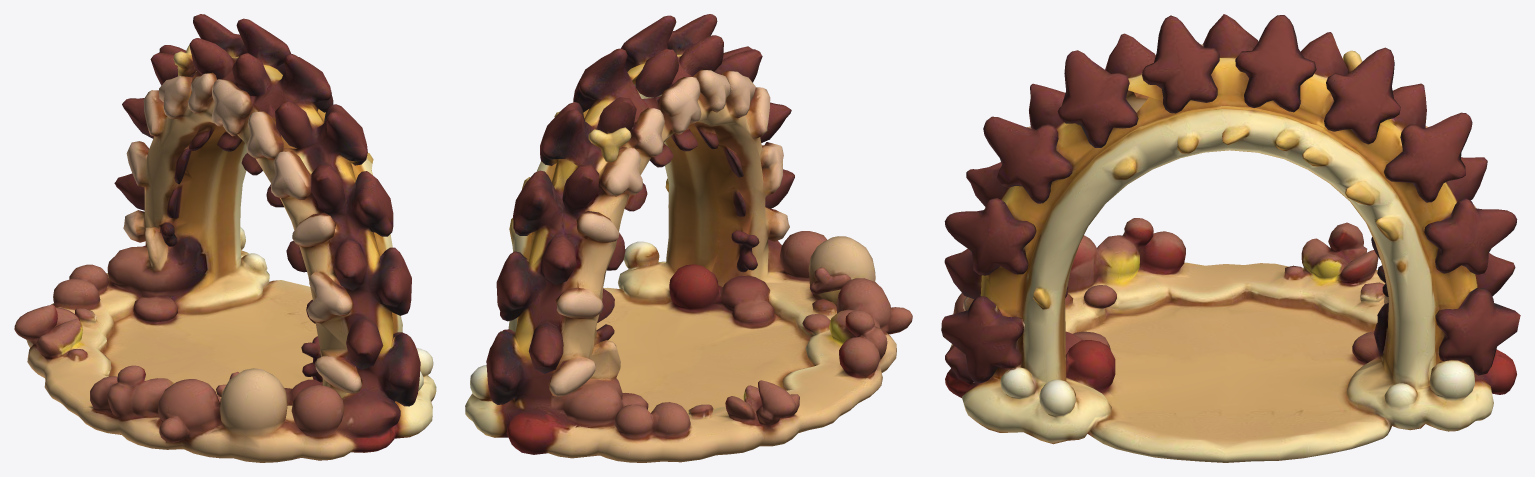
File: env_nest_arch_race_01.glb
3 views of the same model, side by side, from view 1: azimuth 30°, elevation 25°; view 2: azimuth 150°, elevation 25°; view 3: azimuth 270°, elevation 25° (orthographic). The views are drawn at different scales.
Parts seen in each view (by area): view 1: env_nest_arch_race_01; view 2: env_nest_arch_race_01; view 3: env_nest_arch_race_01.
Boxes of the visible parts, x1,y1,x2,y2 form: env_nest_arch_race_01: (14,14,436,462); env_nest_arch_race_01: (465,14,912,462); env_nest_arch_race_01: (941,14,1520,462).
Size of the model in its own units: 3.17 by 3 by 4.14.
Materials: 1 (1 with a texture image).
